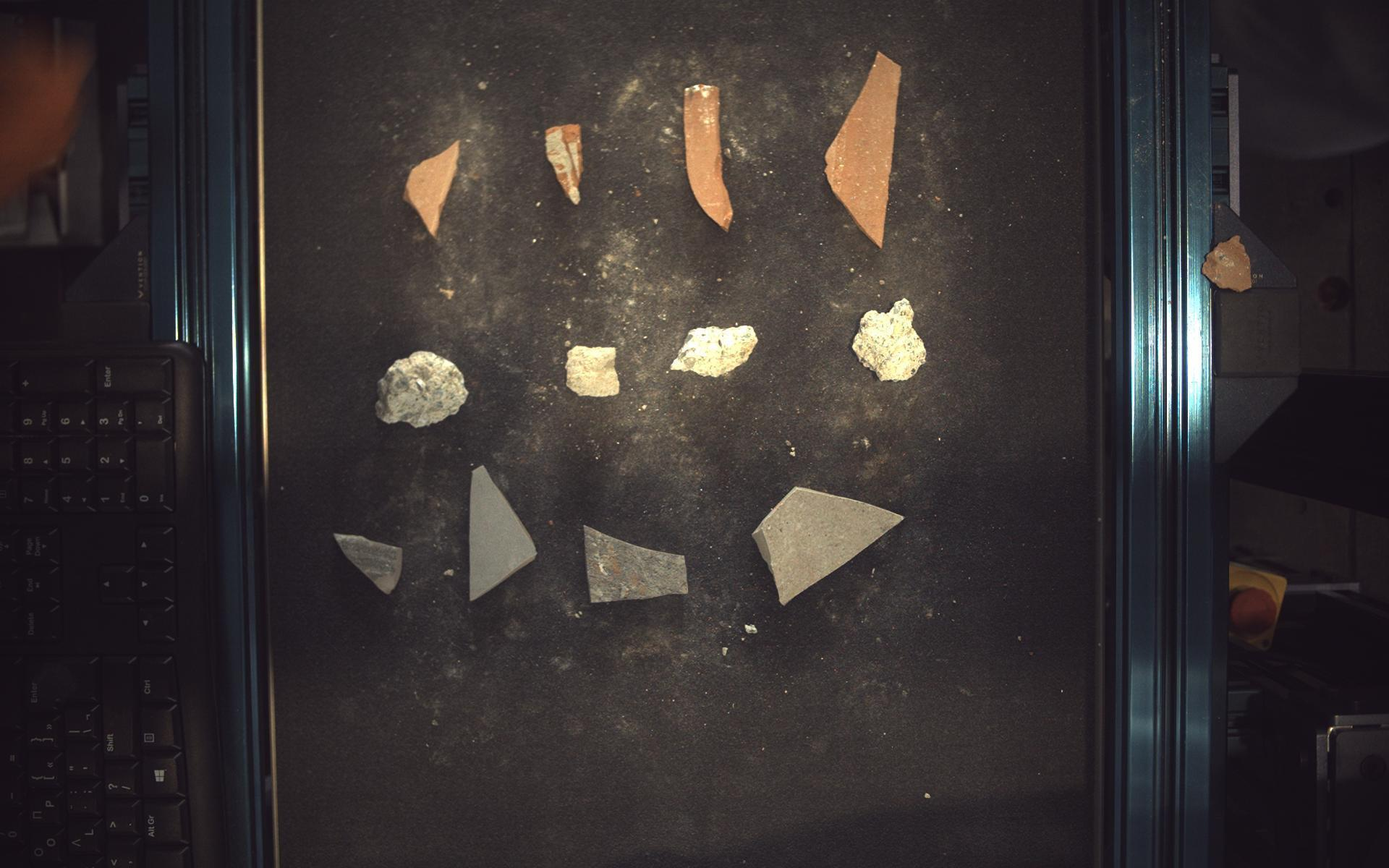brick: (827, 51, 903, 247), (686, 83, 734, 230), (404, 140, 459, 235), (545, 123, 584, 203)
concrete: (375, 351, 469, 427), (854, 298, 928, 380), (671, 326, 759, 377), (567, 346, 620, 397)
tile: (754, 488, 905, 606), (470, 467, 537, 601), (585, 527, 688, 604), (334, 534, 402, 595)
